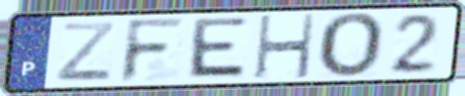2: (386, 11, 442, 76)
E: (183, 16, 250, 81)
F: (117, 16, 189, 85)
H: (252, 12, 317, 81)
O: (316, 11, 388, 80)
Z: (53, 20, 118, 83)
